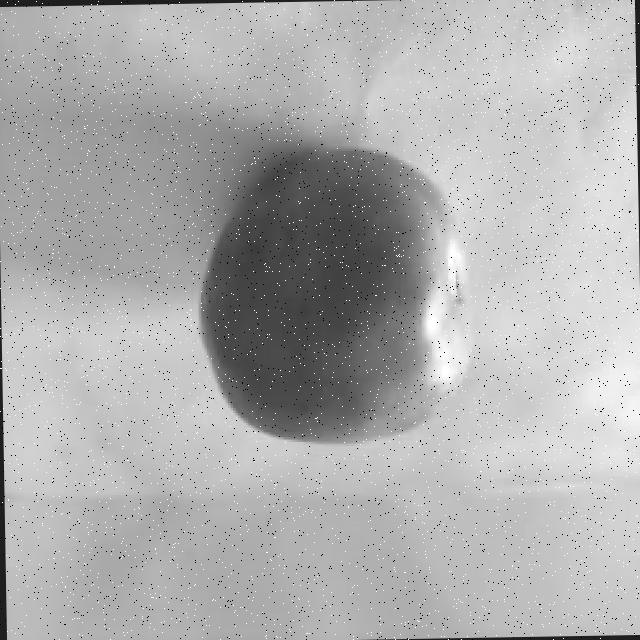Ripe: (190, 142, 480, 451)
